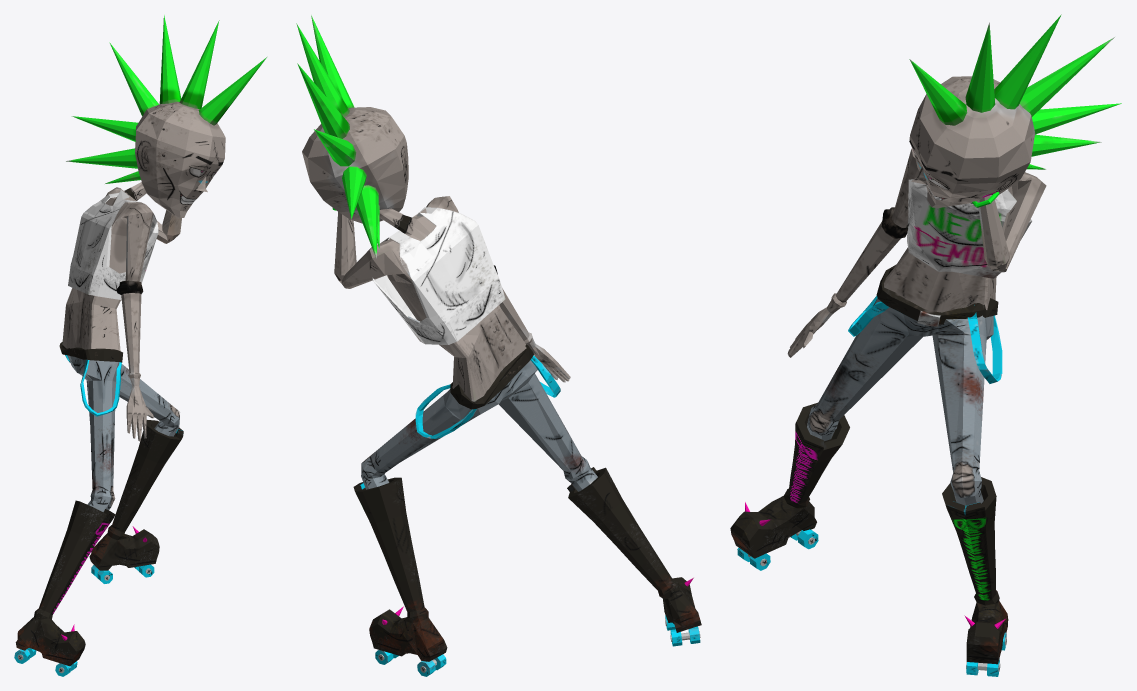
Rendered from punkAnimation_000005.obj.
3 views of the same model, side by side, from view 1: azimuth 30°, elevation 25°; view 2: azimuth 150°, elevation 25°; view 3: azimuth 270°, elevation 25° (orthographic). The views are drawn at different scales.
Parts seen in each view (by area): view 1: Cube.004_Cube.003; view 2: Cube.004_Cube.003; view 3: Cube.004_Cube.003.
Part boxes in pixels (x1=…): Cube.004_Cube.003: x1=14, y1=15, x2=266, y2=676; Cube.004_Cube.003: x1=296, y1=15, x2=701, y2=676; Cube.004_Cube.003: x1=730, y1=14, x2=1121, y2=676.
Bounding box in the file's own units: 3.78 × 6.53 × 3.3.
